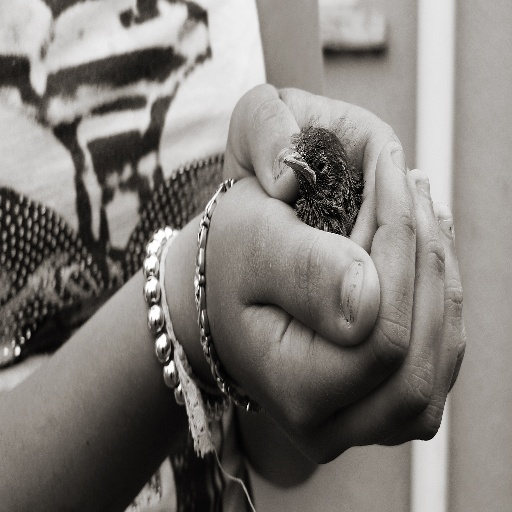hand: (184, 117, 466, 452), (220, 77, 404, 256)
